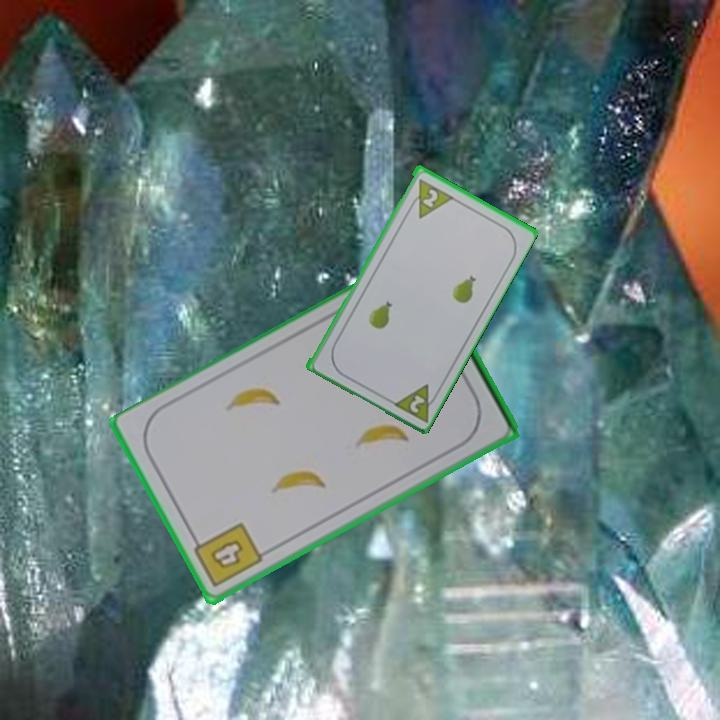2p: (388, 379, 443, 425), (404, 174, 455, 221)
4b: (188, 519, 266, 591)
